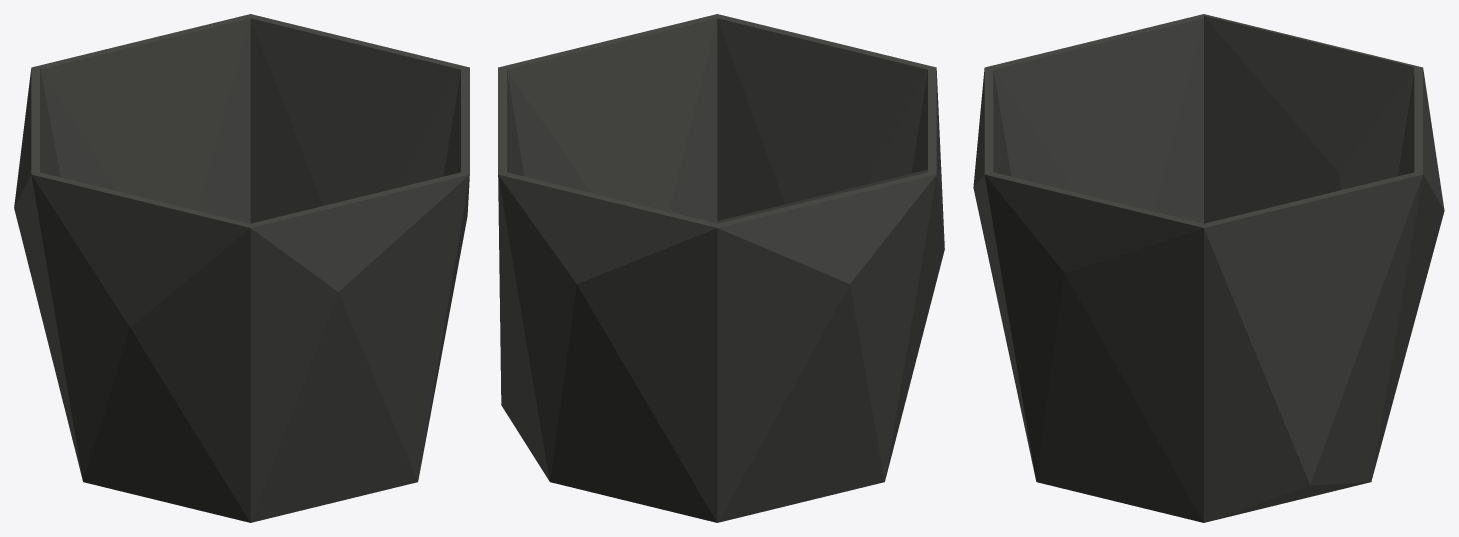
The model's file is objWeedLevel00.fbx.
3 renders of one model, left to right at view 1: azimuth 30°, elevation 25°; view 2: azimuth 150°, elevation 25°; view 3: azimuth 270°, elevation 25°, orthographic.
Visible parts, largest first — view 1: objWeedLevel00; view 2: objWeedLevel00; view 3: objWeedLevel00.
Part boxes in pixels (x1,y1,x2,y2): objWeedLevel00: (14, 14, 469, 522); objWeedLevel00: (498, 14, 944, 522); objWeedLevel00: (973, 14, 1444, 522).
Bounding box in the file's own units: 0.2762 × 0.1944 × 0.257.
1 material, 1 textured.
